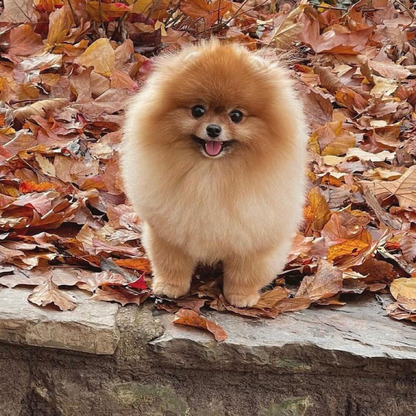Pomeranian: (106, 38, 328, 309)
